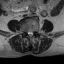CCS_stenosis: (29, 30, 31, 38)
LFS_severe_stenosis: (33, 29, 35, 35)
LLS_normal: (31, 30, 33, 37)
RFS_severe_stenosis: (25, 29, 27, 35)
RLS_normal: (27, 30, 29, 36)
